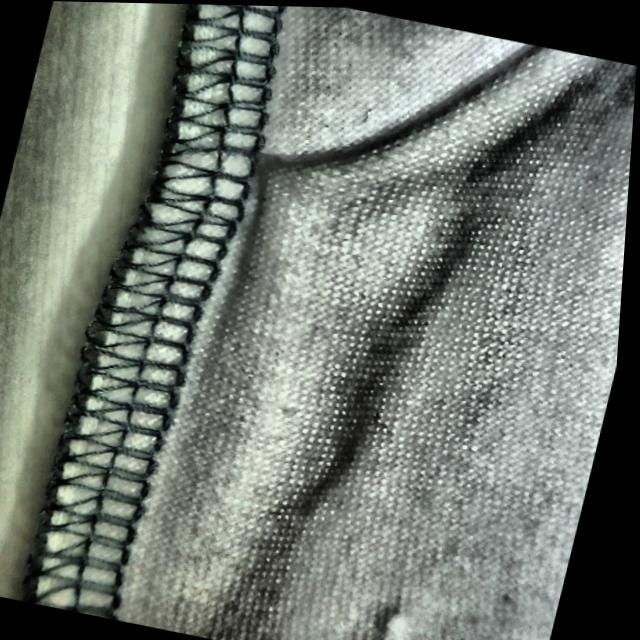seam: (78, 59, 421, 333)
